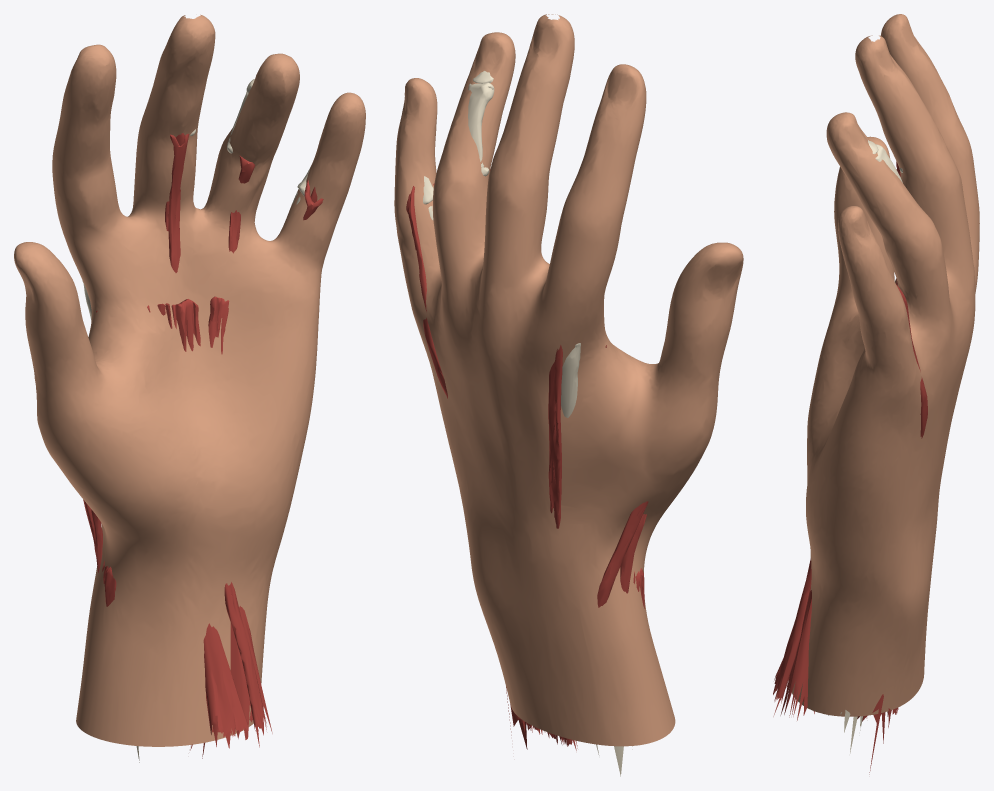
The model's file is hand-l.glb.
3 renders of one model, left to right at view 1: azimuth 30°, elevation 25°; view 2: azimuth 150°, elevation 25°; view 3: azimuth 270°, elevation 25°, orthographic. The views are drawn at different scales.
Parts seen in each view (by area): view 1: skin, muscle; view 2: skin, muscle, bone; view 3: skin, muscle, bone.
Part boxes in pixels (x1,y1,x2,y2): skin: [14, 14, 365, 746]; muscle: [83, 133, 323, 758]; skin: [394, 14, 743, 746]; muscle: [406, 170, 648, 750]; bone: [423, 19, 632, 776]; skin: [792, 14, 979, 716]; muscle: [773, 161, 927, 774]; bone: [828, 140, 902, 753].
Size of the model in its own units: 0.1194 by 0.2522 by 0.0659.
